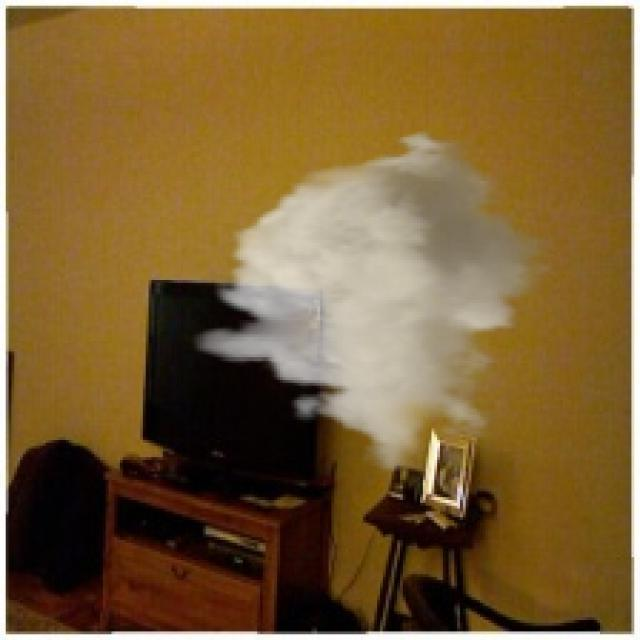Smoke: (188, 128, 558, 474)
